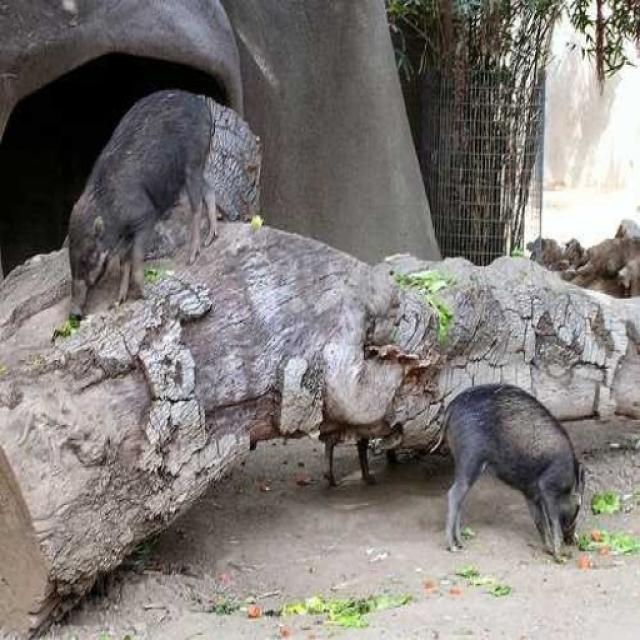pig: (68, 83, 241, 327), (442, 377, 618, 576)
